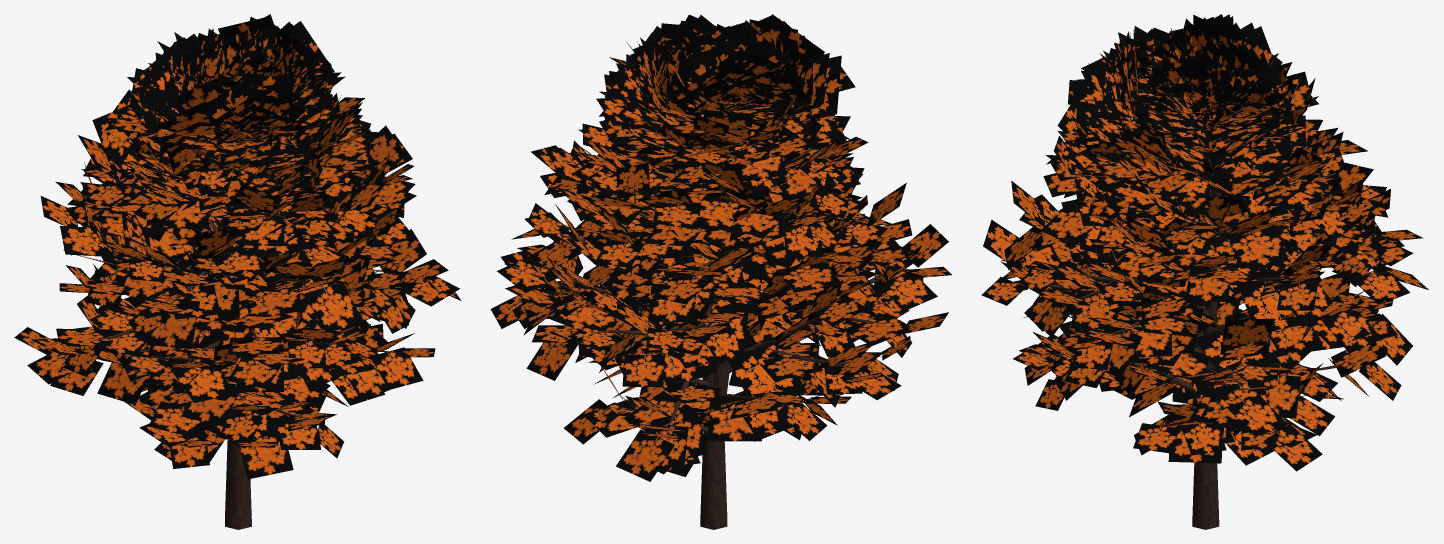
File: Maple.fbx
3 renders of one model, left to right at view 1: azimuth 30°, elevation 25°; view 2: azimuth 150°, elevation 25°; view 3: azimuth 270°, elevation 25°, orthographic.
Parts seen in each view (by area): view 1: MapleLeaves_LOD0, Maple_LOD0; view 2: MapleLeaves_LOD0, Maple_LOD0; view 3: MapleLeaves_LOD0, Maple_LOD0.
Boxes of the visible parts, bbox=[...] form: MapleLeaves_LOD0: bbox=[14, 14, 461, 479]; Maple_LOD0: bbox=[78, 142, 404, 529]; MapleLeaves_LOD0: bbox=[490, 14, 951, 481]; Maple_LOD0: bbox=[544, 151, 911, 529]; MapleLeaves_LOD0: bbox=[981, 14, 1428, 471]; Maple_LOD0: bbox=[1014, 148, 1387, 529].
Size of what is drawn, in the model's own units: 678 by 781 by 640.
